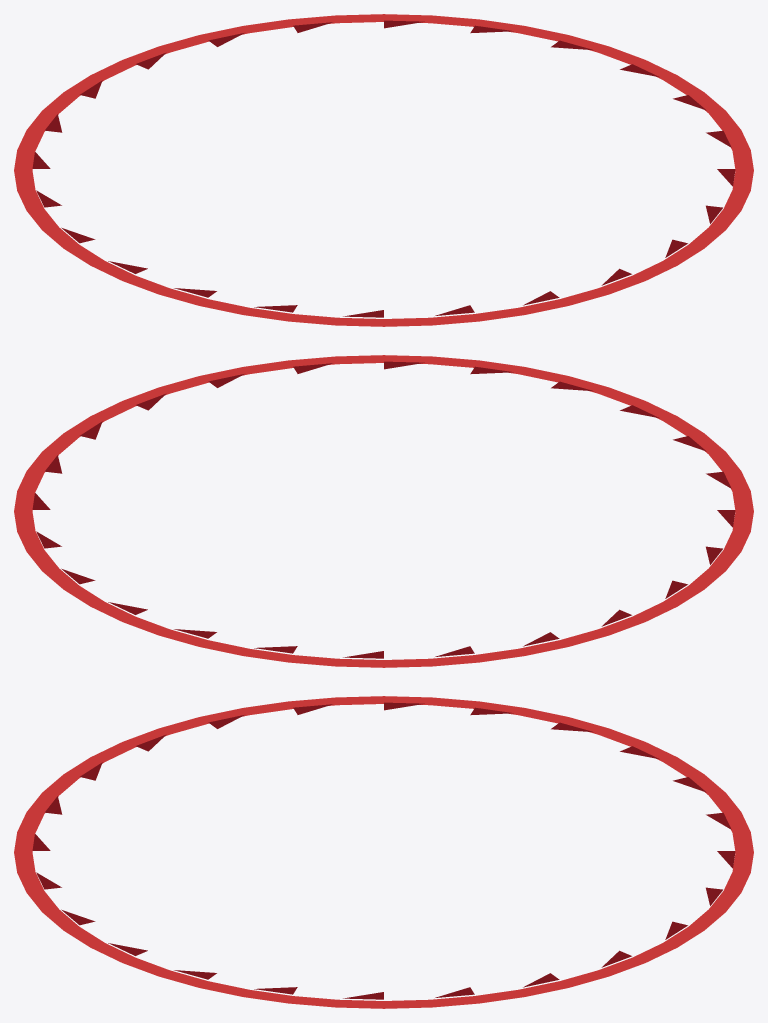
The model's file is axe_storm_ring.glb.
3 views of the same model, one above another, from view 1: azimuth 30°, elevation 25°; view 2: azimuth 150°, elevation 25°; view 3: azimuth 270°, elevation 25° (orthographic).
Parts seen in each view (by area): view 1: axe_storm_ring; view 2: axe_storm_ring; view 3: axe_storm_ring.
Part boxes in pixels (x1=…): axe_storm_ring: x1=14, y1=14, x2=753, y2=326; axe_storm_ring: x1=14, y1=355, x2=753, y2=667; axe_storm_ring: x1=14, y1=696, x2=753, y2=1008.
Bounding box in the file's own units: 2 × 0.004 × 2.
Materials: 1 (1 with a texture image).
